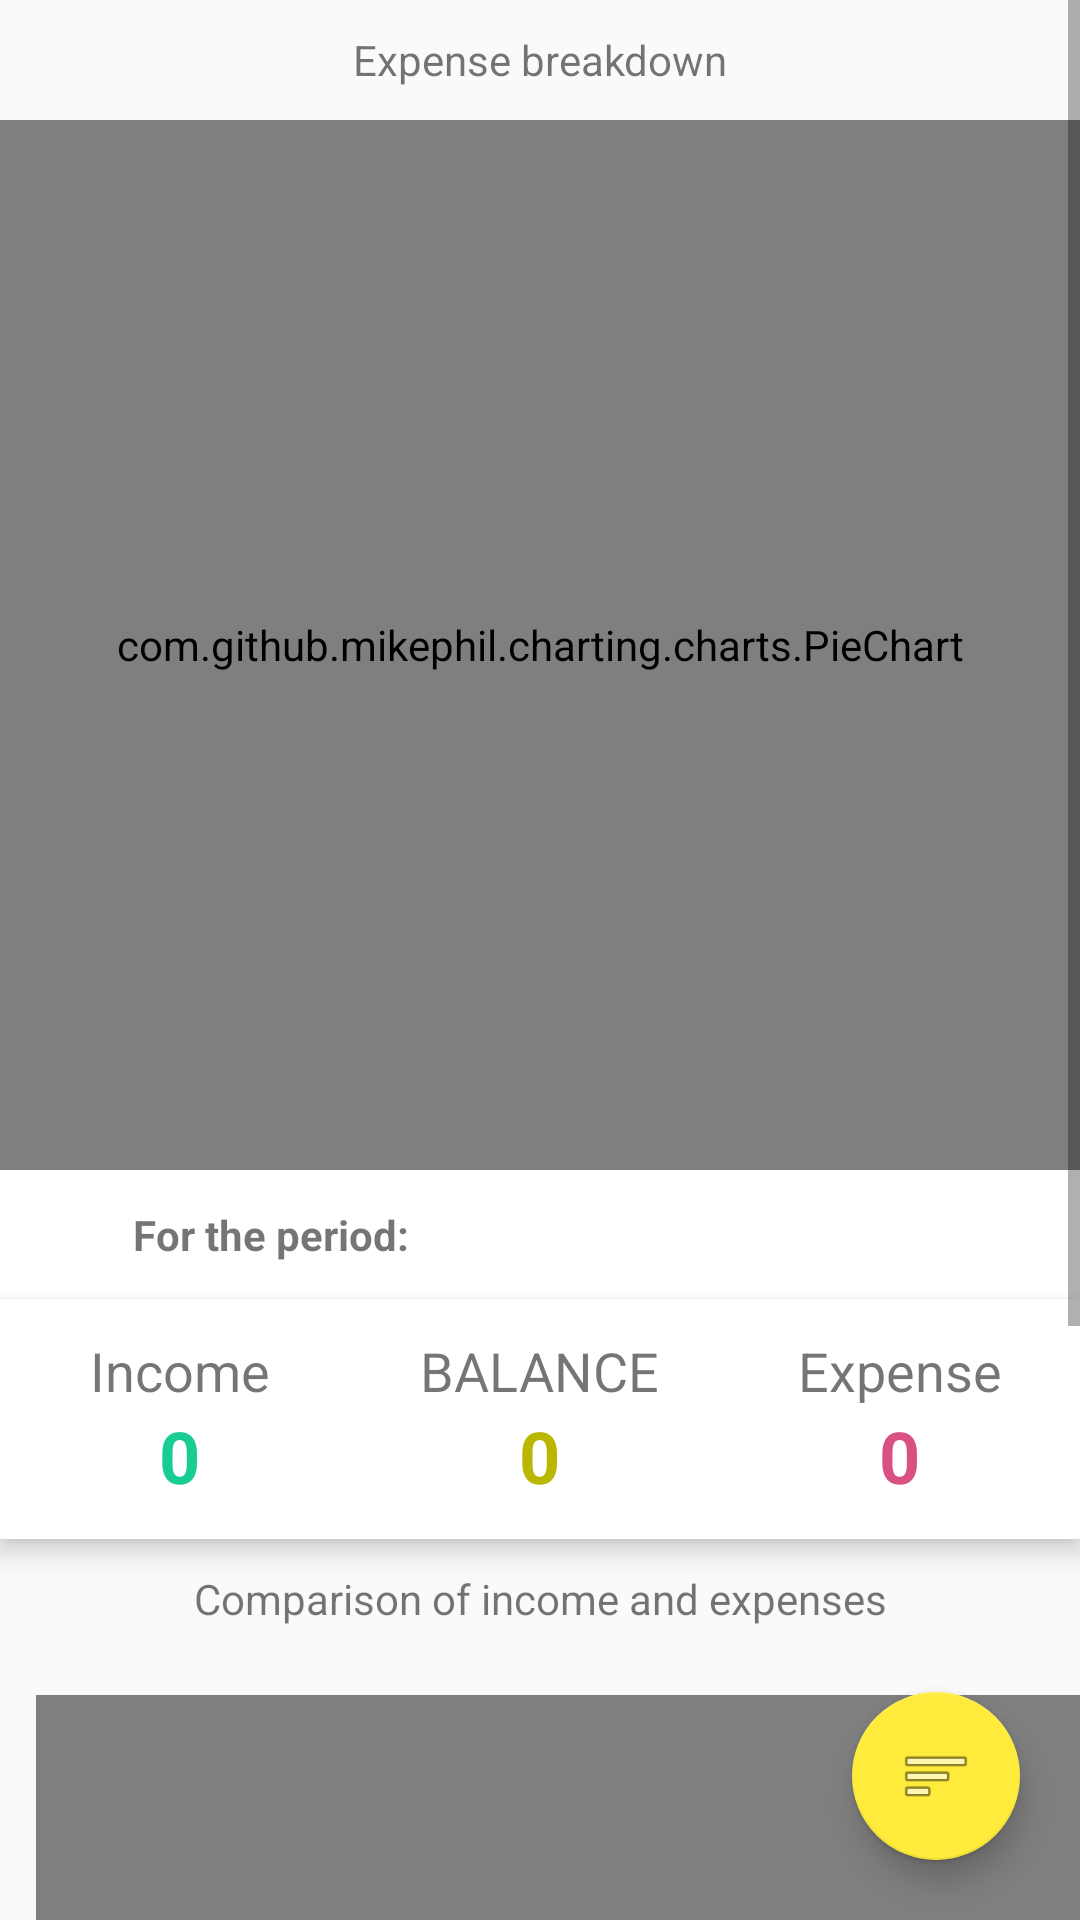

Locate icon controls on the screen. Image size 1080 x 1920, boxes as (x1,y1,x2,y2).
sort by size: (852,1692,1020,1860)
